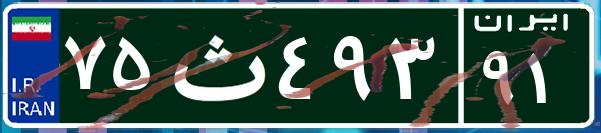1: (525, 38, 570, 115)
3: (385, 28, 445, 110)
4: (273, 28, 330, 110)
5: (110, 28, 158, 105)
7: (57, 26, 110, 107)
9: (330, 28, 385, 110), (475, 38, 525, 113)
ث: (158, 15, 273, 115)
